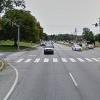Crosswalk: (11, 52, 100, 74)
